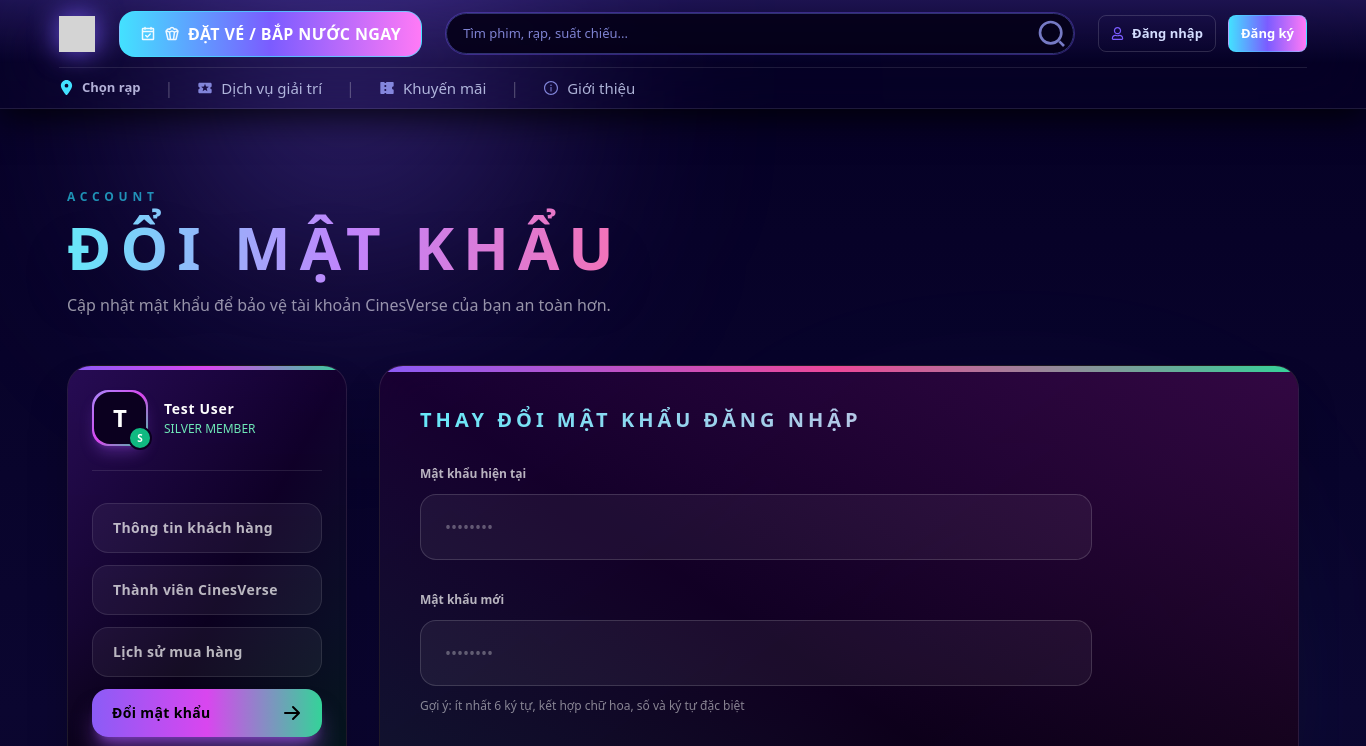
Test: AccountPasswordPage › validates confirm mismatch
Type "oldpass" into the password field with placeholder "••••••••" below "Mật khẩu hiện tại" at (756, 527), box [420,494,1092,560]
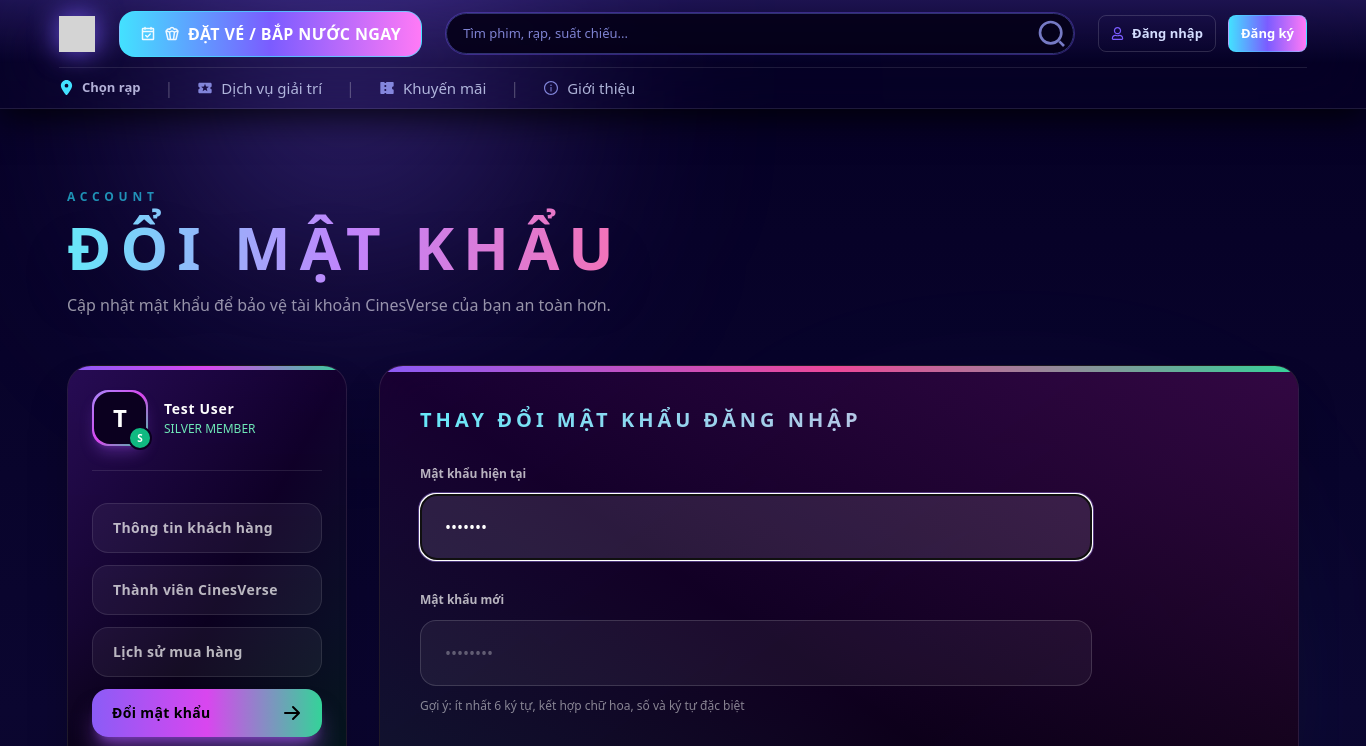
Type "123456" into the password field with placeholder "••••••••" at (756, 653), box [420,620,1092,686]
(page scrolled)
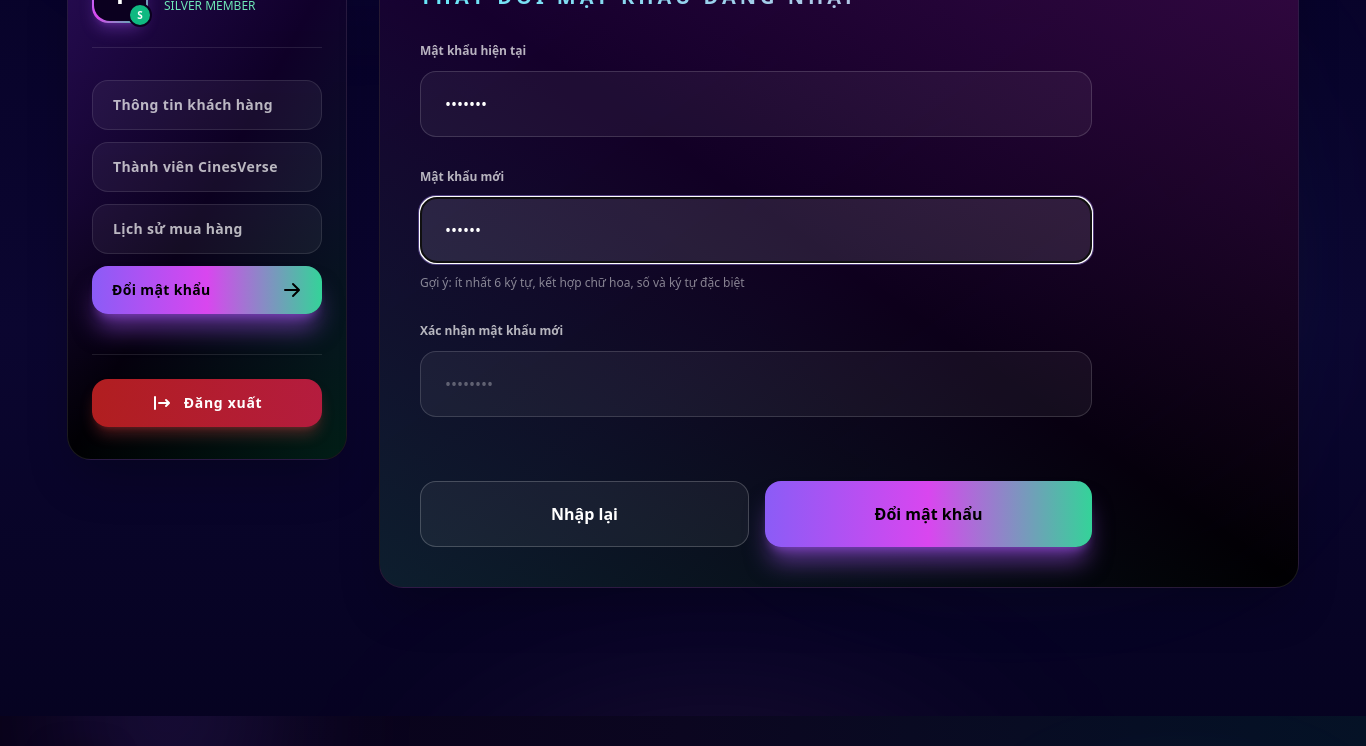
Type "1234567" into the password field with placeholder "••••••••" at (756, 384), box [420,351,1092,417]
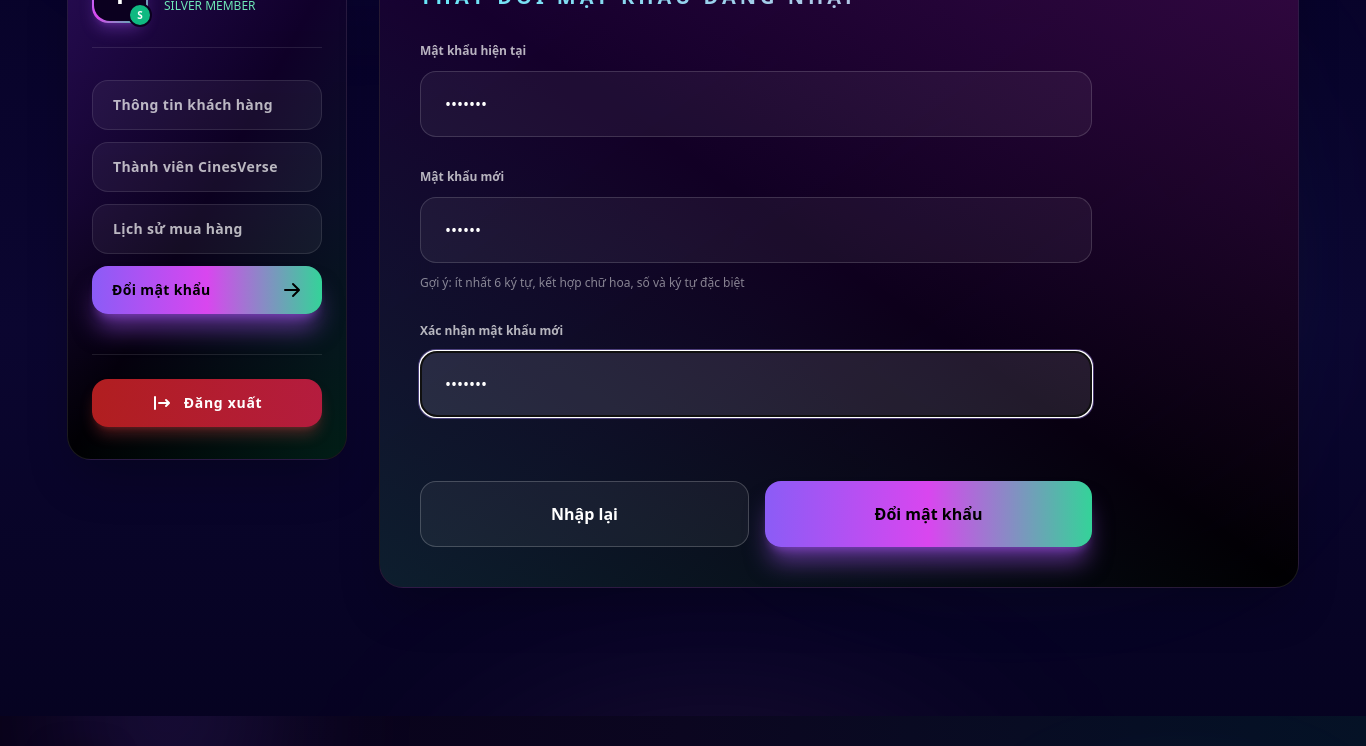
Click the button "Đổi mật khẩu" below "Xác nhận mật khẩu mới" at (928, 514), box [765,481,1092,547]
(page scrolled)
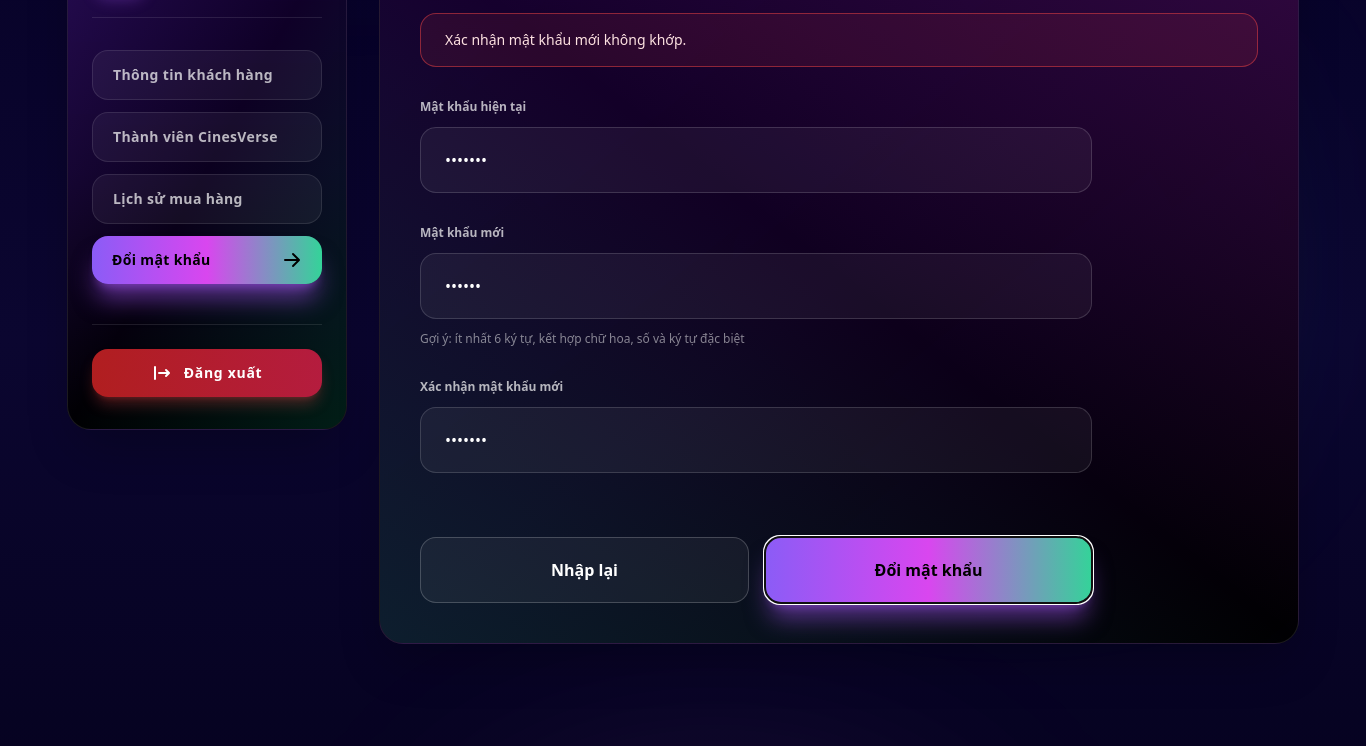
Now the text "Xác nhận mật khẩu mới không khớp." is shown, box [420,13,1258,67]
